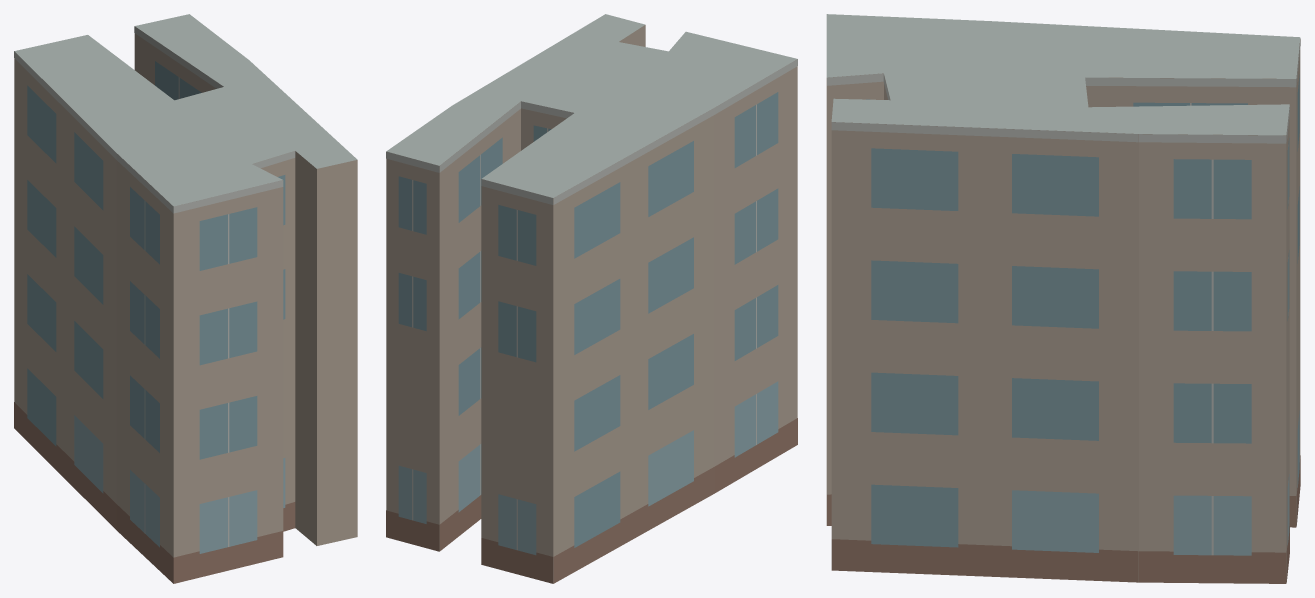
Rendered from survey-upis-32894777.glb.
3 views of the same model, side by side, from view 1: azimuth 30°, elevation 25°; view 2: azimuth 150°, elevation 25°; view 3: azimuth 270°, elevation 25° (orthographic). The views are drawn at different scales.
Visible parts, largest first — view 1: survey-upis-32894777.tmp; view 2: survey-upis-32894777.tmp; view 3: survey-upis-32894777.tmp.
Part boxes in pixels (box(x1,y1,x2,y2)): survey-upis-32894777.tmp: box(14, 14, 357, 583); survey-upis-32894777.tmp: box(386, 14, 797, 583); survey-upis-32894777.tmp: box(826, 14, 1300, 583).
Bounding box in the file's own units: 7.67 × 13.2 × 12.65.
